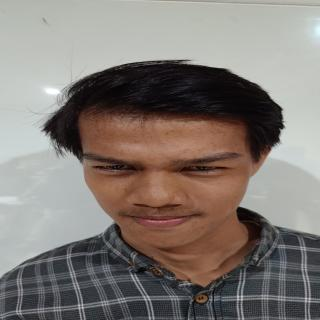Marah: (67, 94, 252, 252)
